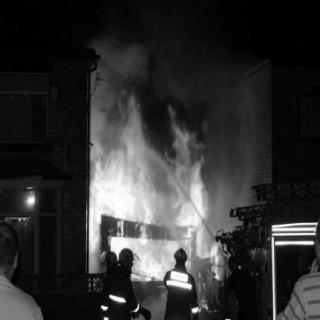other: (167, 270, 193, 292)
